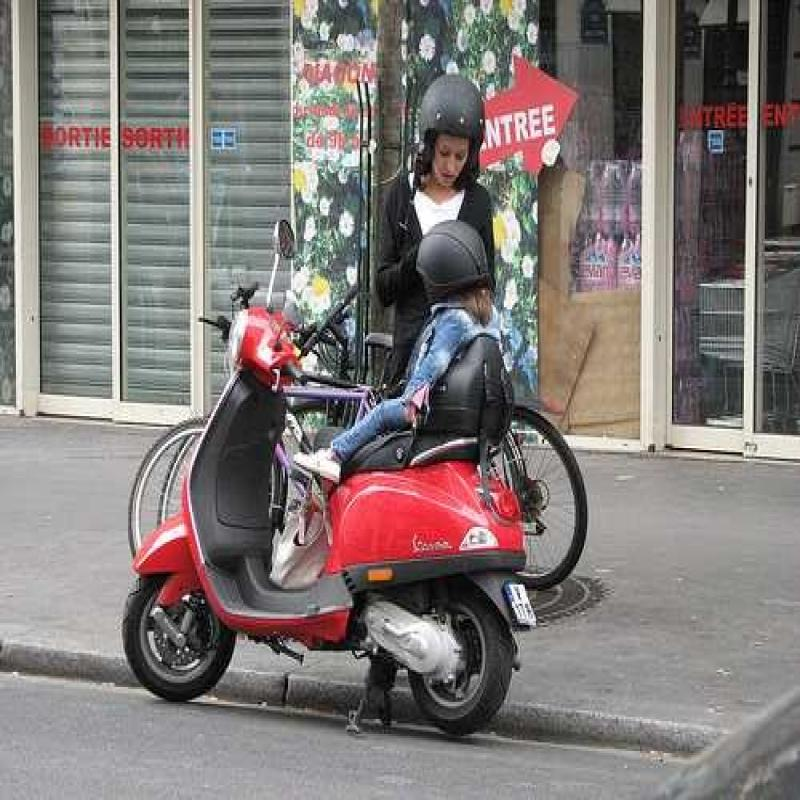bike: (118, 267, 526, 748)
